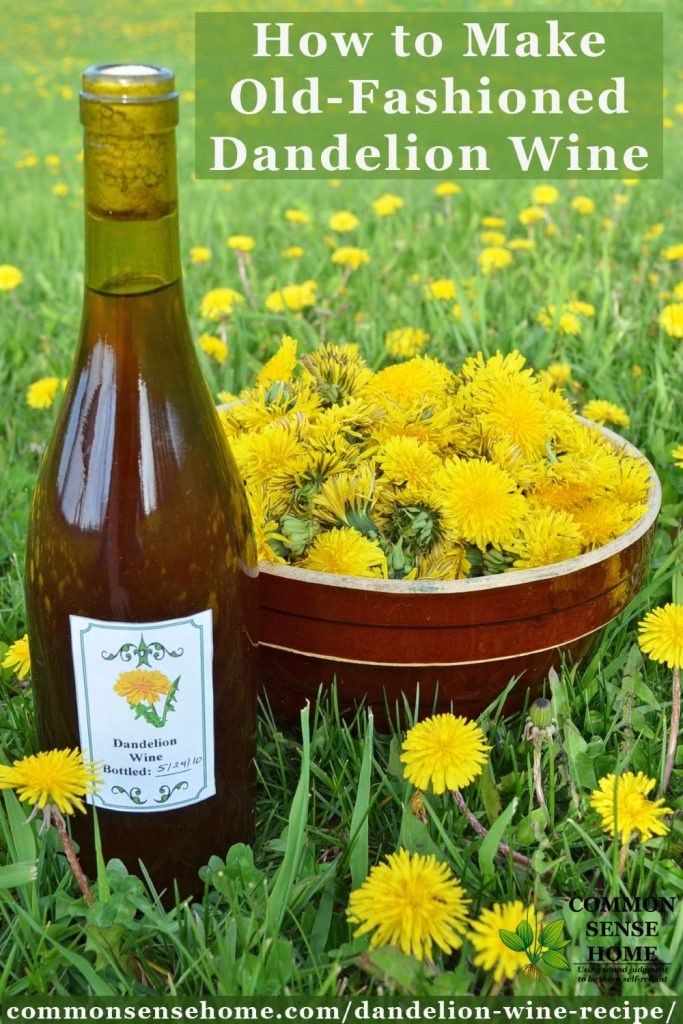dandelion: (246, 348, 600, 594), (349, 859, 471, 952), (7, 742, 105, 819), (583, 771, 675, 839), (406, 726, 493, 782), (640, 601, 683, 662), (113, 668, 176, 705), (190, 284, 244, 325), (6, 635, 28, 682), (30, 381, 60, 407)
